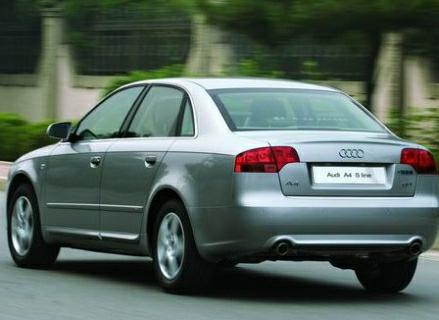car: (0, 69, 439, 298)
